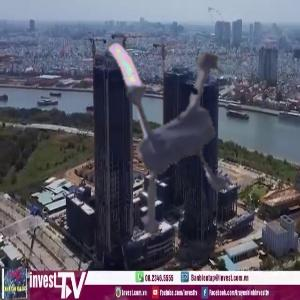drone: (49, 2, 285, 238)
